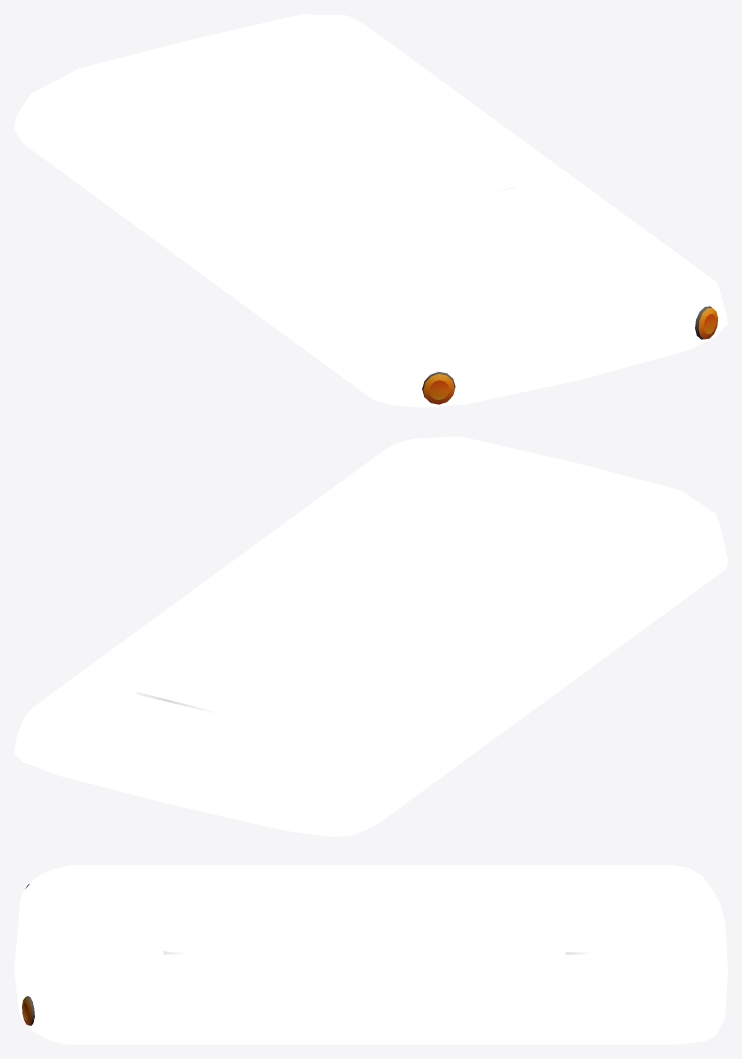
File: Van_roof.fbx
The picture shows the model from 3 angles, top to bottom: view 1: azimuth 30°, elevation 25°; view 2: azimuth 150°, elevation 25°; view 3: azimuth 270°, elevation 25°; orthographic projection. The views are drawn at different scales.
Parts seen in each view (by area): view 1: Van_roof; view 2: Van_roof; view 3: Van_roof.
Part boxes in pixels (x1,y1,x2,y2): Van_roof: (14,14,727,407); Van_roof: (14,436,727,836); Van_roof: (14,865,727,1044).
Bounding box in the file's own units: 64.42 × 12.92 × 130.
